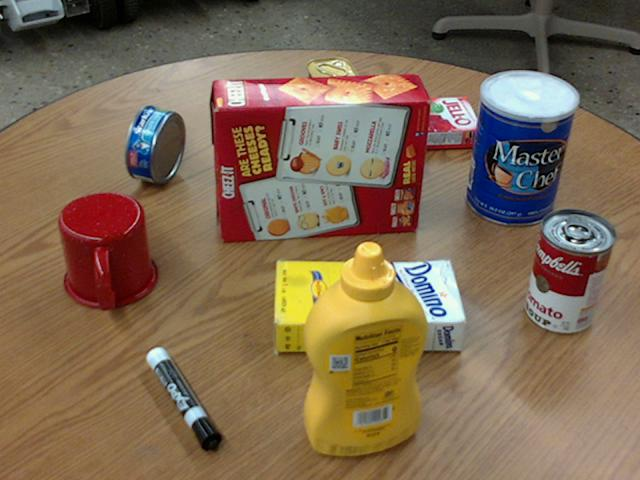cracker_box: (212, 73, 427, 241)
gelatin_box: (413, 96, 482, 146)
large_marker: (145, 348, 219, 449)
master_chef_can: (466, 70, 577, 225)
mug: (59, 192, 158, 307)
mustard_bottle: (303, 242, 426, 455)
potted_meat_can: (307, 56, 367, 153)
sugar_box: (273, 260, 466, 351)
tomato_soup_can: (526, 209, 615, 333)
tuna_fish_can: (126, 106, 183, 183)
